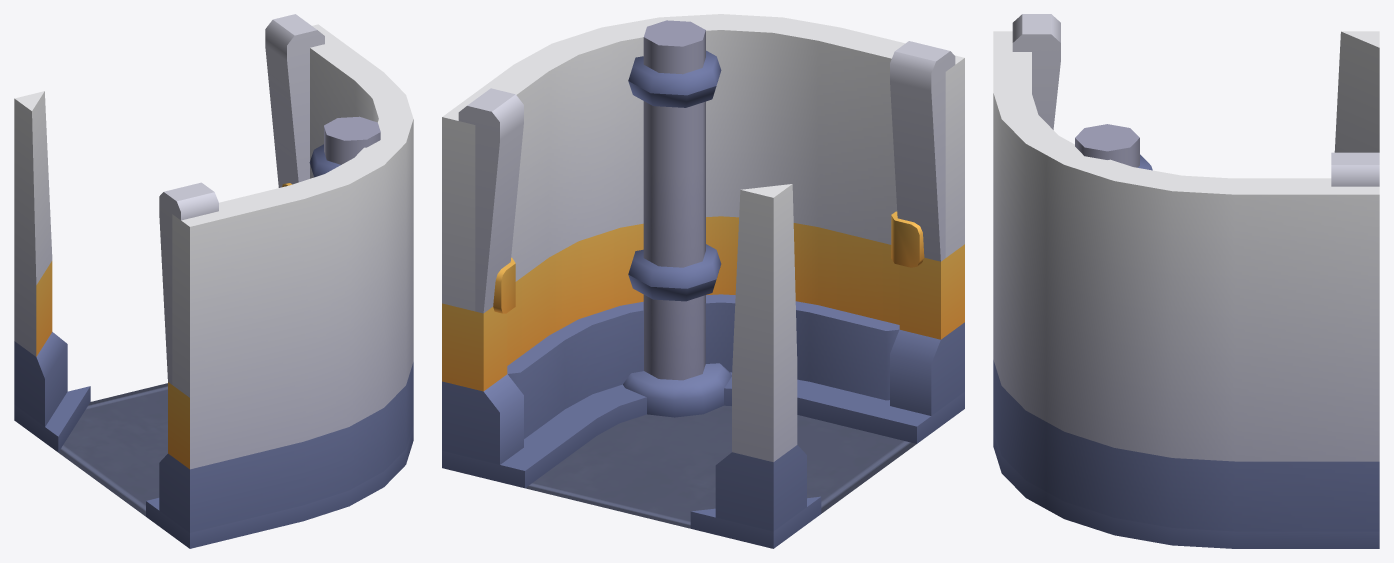
Rendered from kenney-space-corridor-corner.glb.
3 renders of one model, left to right at view 1: azimuth 30°, elevation 25°; view 2: azimuth 150°, elevation 25°; view 3: azimuth 270°, elevation 25°, orthographic. The views are drawn at different scales.
Parts seen in each view (by area): view 1: corridor-corner; view 2: corridor-corner; view 3: corridor-corner.
Part boxes in pixels (bbox=[...]): corridor-corner: bbox=[14, 14, 413, 548]; corridor-corner: bbox=[442, 14, 964, 548]; corridor-corner: bbox=[993, 14, 1379, 548].
Bounding box in the file's own units: 3 × 3.19 × 3.
Materials: 1 (1 with a texture image).
